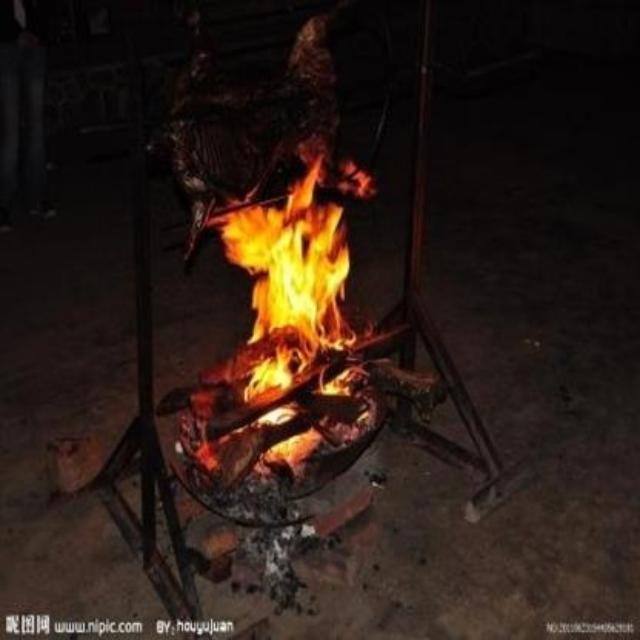Fire: (205, 142, 377, 474)
